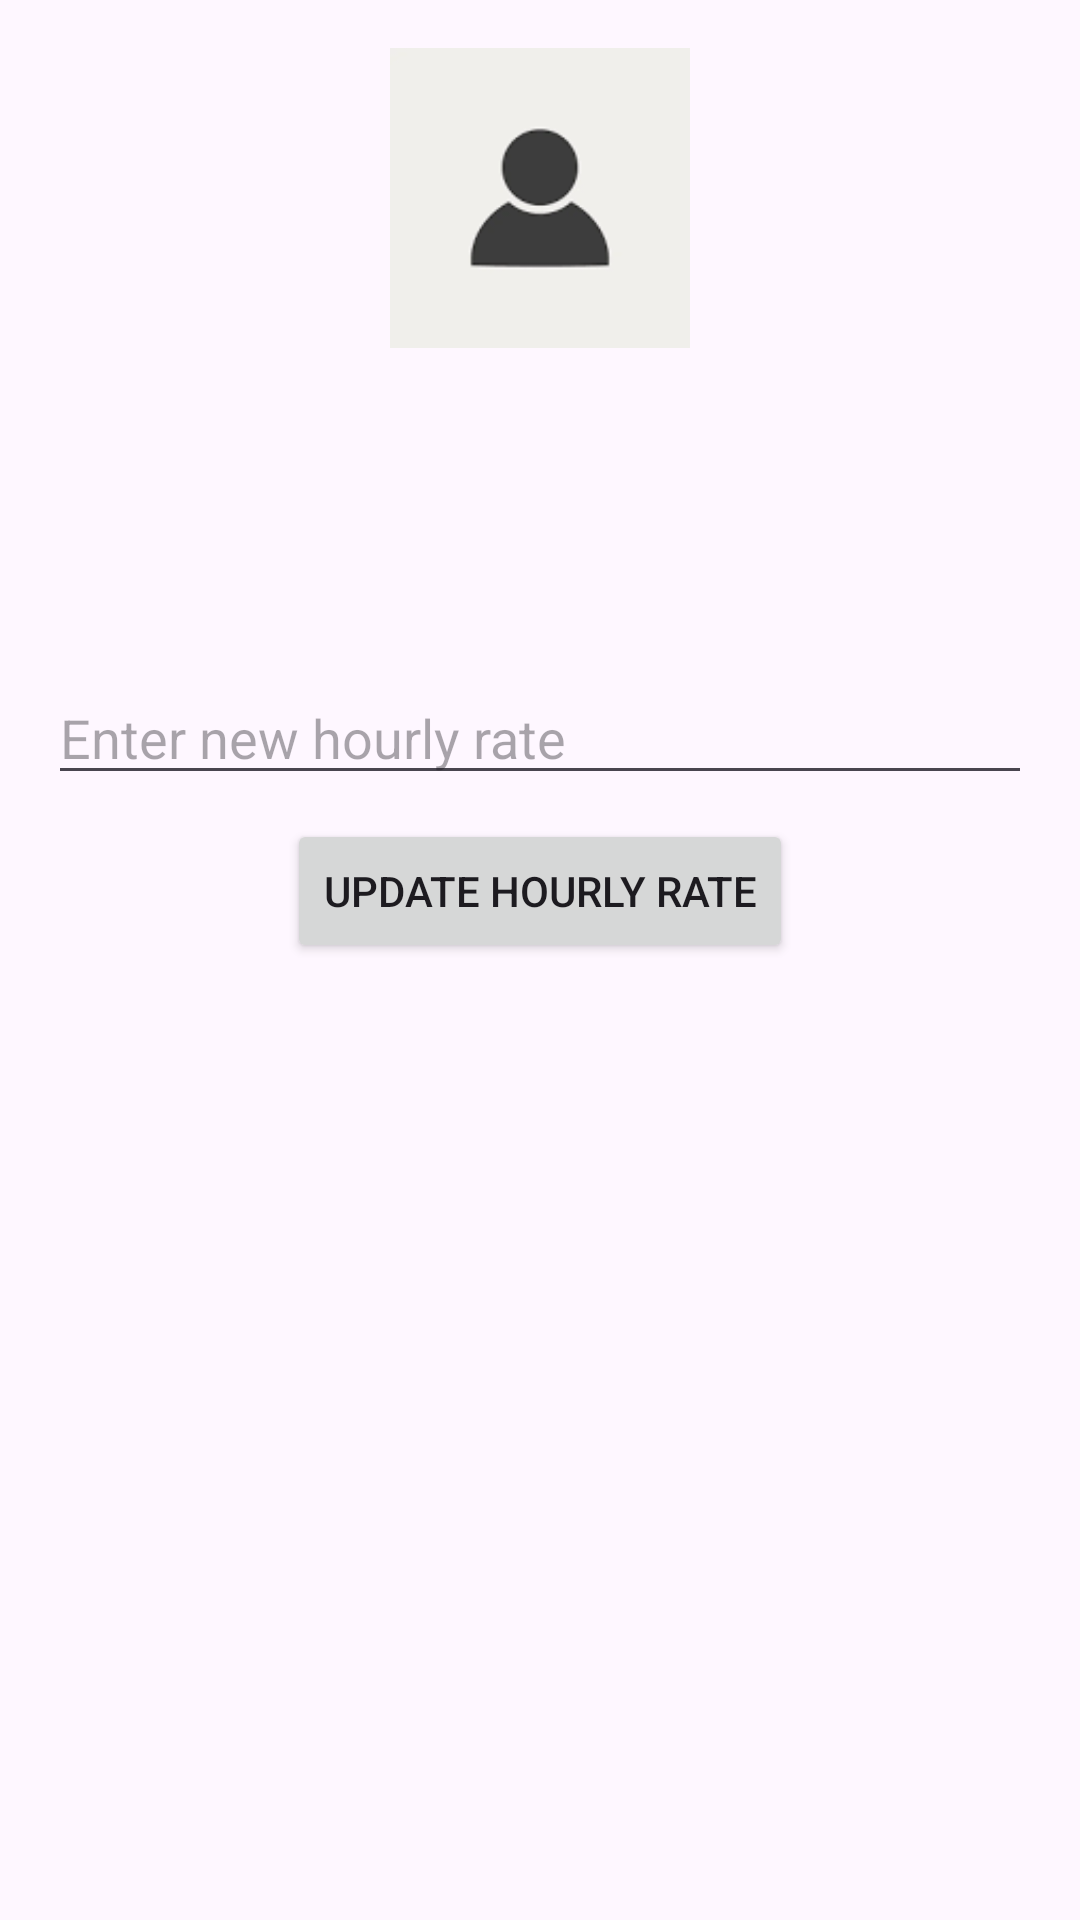

Icons on this 1080*1920 Android screen, each with its box as [x1, y1, x2, y2]:
Tutor Photo: [470, 128, 610, 268]
